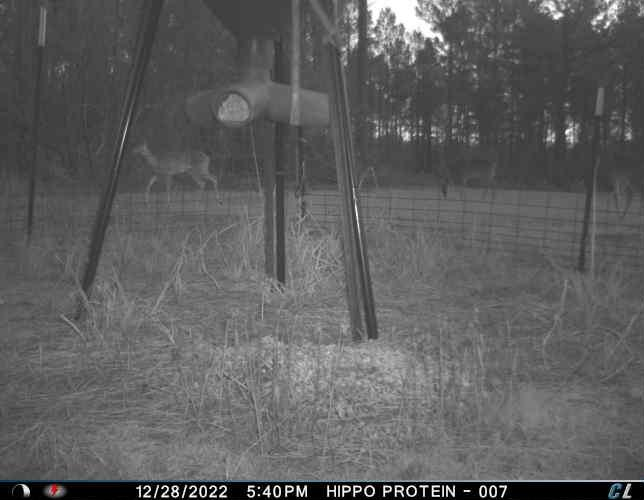Deer: (127, 137, 221, 205), (420, 149, 499, 206)
